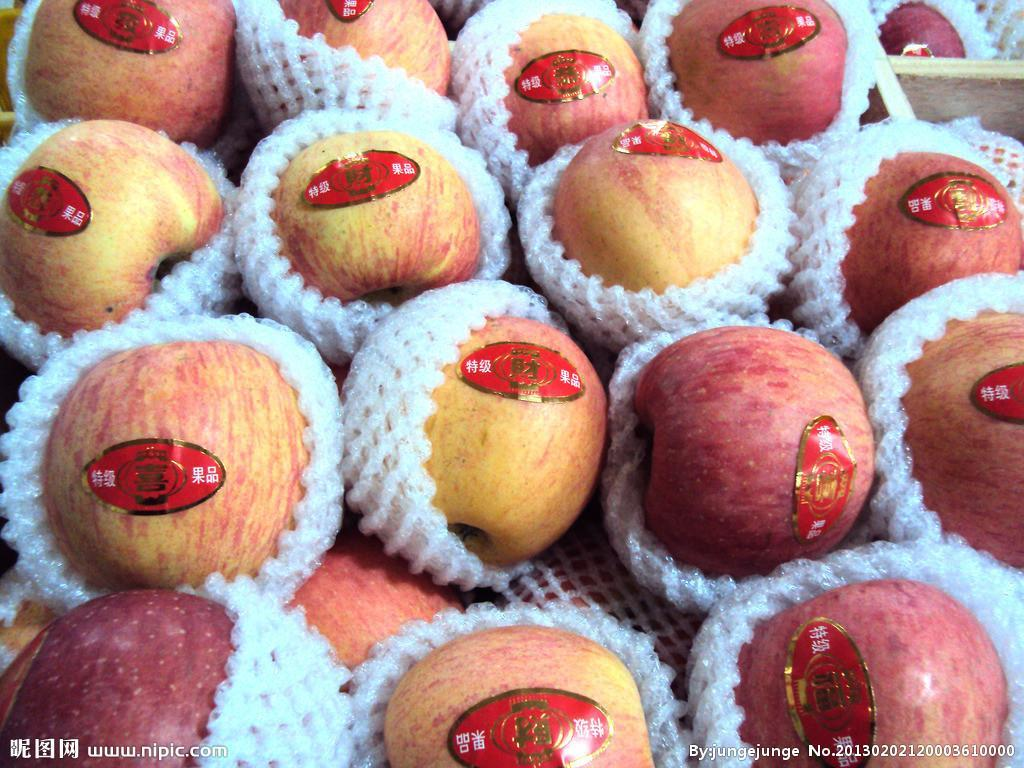apple: (24, 329, 337, 616), (330, 287, 608, 580), (601, 324, 874, 613), (686, 580, 1020, 765), (802, 92, 1023, 347), (548, 118, 780, 326), (4, 122, 223, 323), (382, 626, 652, 768), (277, 132, 491, 293), (641, 1, 868, 147), (28, 1, 232, 136), (502, 11, 645, 157), (261, 1, 451, 90), (885, 1, 969, 64)
